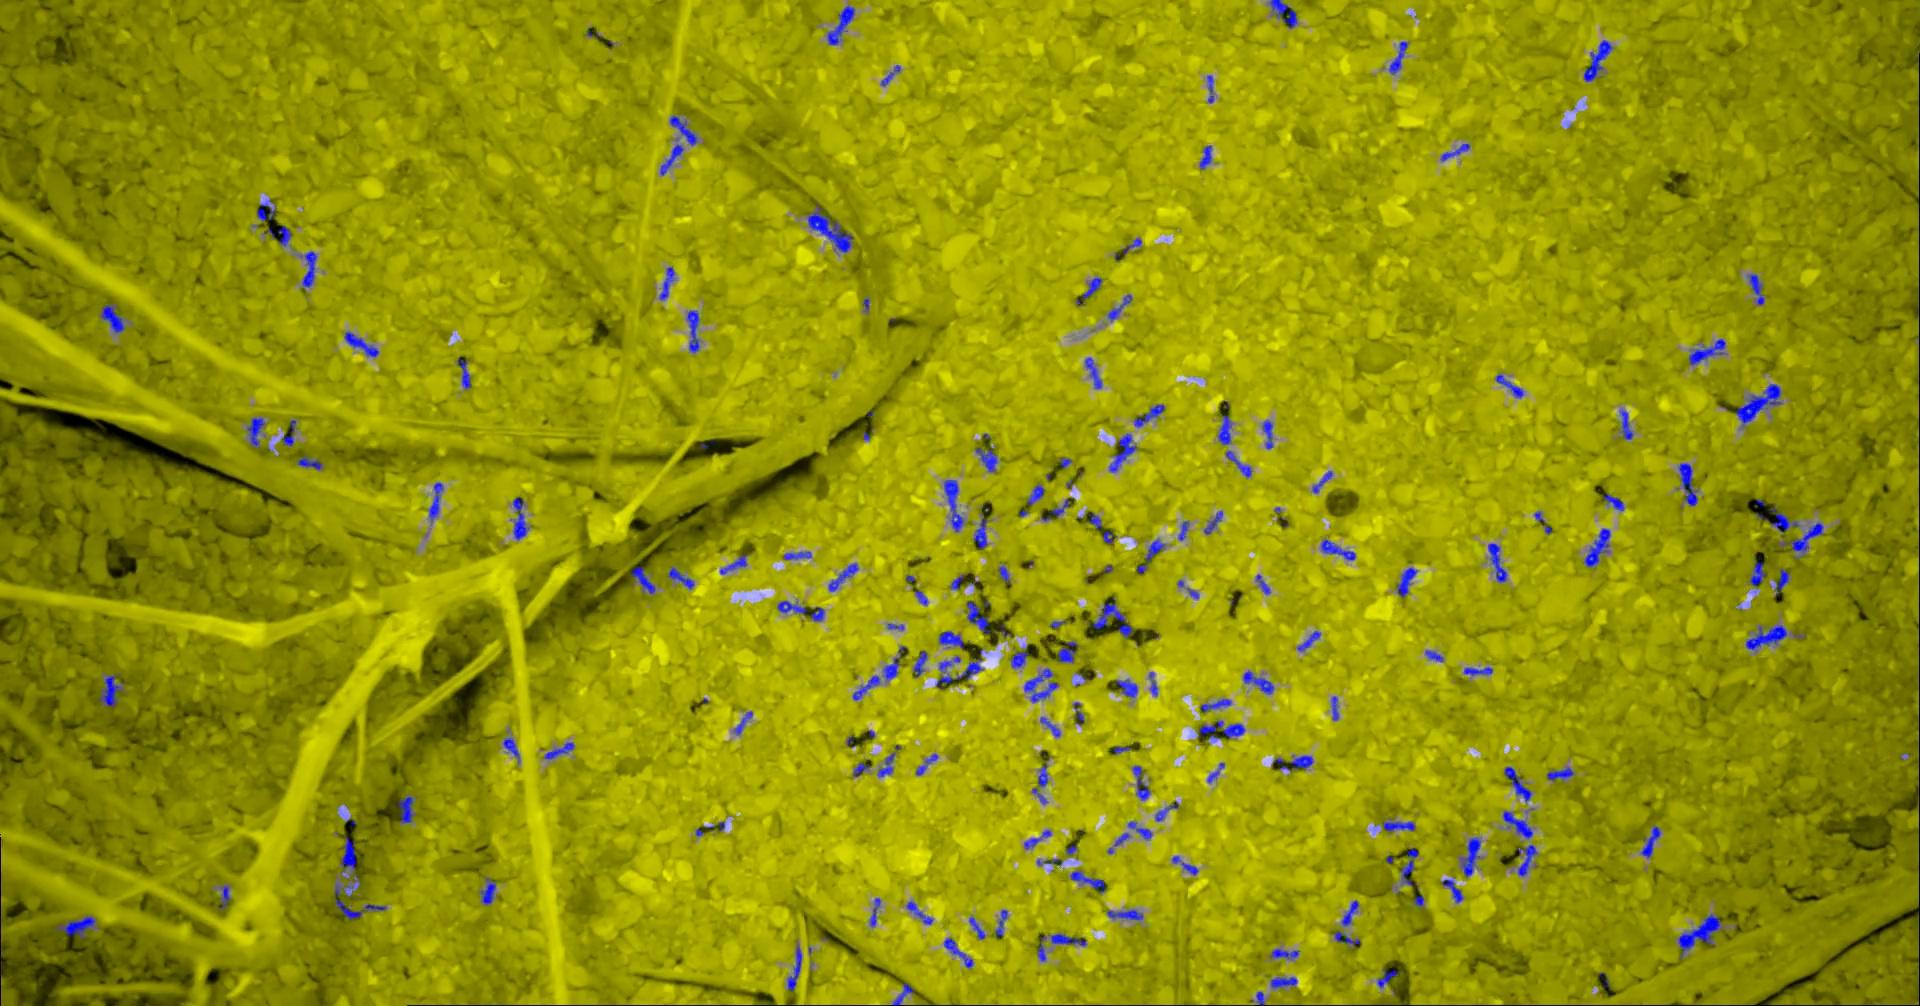ant: (809, 202, 855, 251), (1736, 384, 1783, 426), (1680, 913, 1722, 959), (968, 600, 1013, 636), (1092, 598, 1133, 638), (937, 655, 984, 688), (1783, 522, 1823, 556), (1585, 39, 1615, 81), (1025, 668, 1059, 702), (1747, 624, 1788, 652), (828, 5, 856, 44), (945, 479, 965, 531), (1111, 433, 1138, 473), (337, 884, 364, 920), (1690, 338, 1727, 365), (1586, 528, 1611, 567), (1138, 539, 1166, 573), (1506, 766, 1533, 801), (57, 915, 97, 937), (1199, 720, 1246, 739), (945, 937, 974, 967), (1503, 810, 1534, 838), (345, 332, 380, 356), (670, 116, 698, 145), (1680, 464, 1699, 506), (1271, 0, 1299, 28), (830, 563, 858, 591), (1771, 506, 1801, 532), (884, 647, 907, 680), (1490, 542, 1509, 582), (1463, 837, 1482, 876), (1227, 450, 1253, 478), (662, 144, 684, 175), (102, 674, 124, 706), (1322, 539, 1357, 559), (1072, 871, 1107, 892), (1244, 671, 1275, 694), (1078, 277, 1103, 304), (102, 304, 126, 332), (1497, 373, 1525, 398), (1135, 404, 1166, 426), (514, 495, 530, 539), (789, 944, 803, 991), (1402, 848, 1420, 885), (1642, 826, 1662, 857), (1109, 293, 1133, 320), (632, 567, 657, 593), (855, 674, 881, 699), (1390, 41, 1410, 74), (1519, 843, 1538, 876), (1398, 567, 1418, 597), (1134, 765, 1152, 799), (908, 901, 935, 923), (1043, 498, 1070, 520), (342, 836, 358, 871), (265, 225, 293, 245), (1274, 754, 1314, 768), (977, 447, 999, 471), (430, 481, 444, 521), (669, 567, 695, 588), (1749, 273, 1766, 304), (1086, 357, 1103, 387), (721, 554, 748, 574), (1025, 829, 1053, 848), (546, 742, 575, 760), (249, 417, 265, 447), (303, 251, 317, 287), (1299, 630, 1322, 652), (1443, 879, 1464, 902), (894, 982, 916, 1005), (690, 310, 701, 352), (975, 513, 989, 547), (1336, 930, 1363, 948), (917, 753, 938, 775), (1443, 144, 1470, 160), (1751, 559, 1768, 587), (1129, 821, 1153, 840), (940, 631, 965, 649), (662, 267, 676, 298), (399, 796, 415, 823), (1314, 470, 1335, 492), (1205, 511, 1224, 533), (735, 711, 754, 734), (1157, 801, 1180, 821), (879, 752, 897, 776), (458, 357, 472, 387), (481, 876, 497, 904), (1059, 641, 1079, 662), (883, 64, 902, 85), (1379, 968, 1401, 987), (778, 600, 808, 614), (1051, 934, 1087, 945), (1201, 699, 1233, 711), (1343, 901, 1360, 925), (1777, 568, 1790, 596), (258, 199, 277, 220), (1622, 409, 1634, 439), (1220, 414, 1233, 445), (1041, 716, 1062, 735), (1604, 493, 1625, 511), (1117, 680, 1139, 697), (1537, 511, 1553, 533), (916, 650, 930, 677), (1548, 767, 1575, 781), (996, 909, 1010, 936), (505, 737, 521, 761), (1029, 484, 1046, 504), (1109, 909, 1144, 920), (1012, 645, 1029, 667), (283, 419, 297, 445), (298, 455, 324, 469), (970, 916, 985, 939), (218, 885, 232, 909), (1209, 762, 1225, 782), (1384, 821, 1417, 831), (871, 897, 883, 926), (1272, 976, 1298, 988), (1263, 420, 1275, 448), (1257, 574, 1272, 594), (1272, 948, 1302, 958), (1201, 145, 1213, 169), (1465, 666, 1495, 674), (855, 762, 872, 776), (1039, 935, 1048, 962), (1074, 702, 1084, 725), (1039, 763, 1049, 786), (1090, 512, 1103, 528), (783, 551, 813, 559), (1150, 671, 1159, 695), (951, 574, 965, 589), (811, 606, 825, 621), (1180, 520, 1190, 540), (1208, 75, 1215, 102), (1001, 565, 1011, 583), (1427, 650, 1445, 661), (1103, 530, 1117, 542), (1253, 991, 1266, 1005), (1332, 696, 1340, 719), (1183, 862, 1199, 874), (364, 903, 389, 909)
